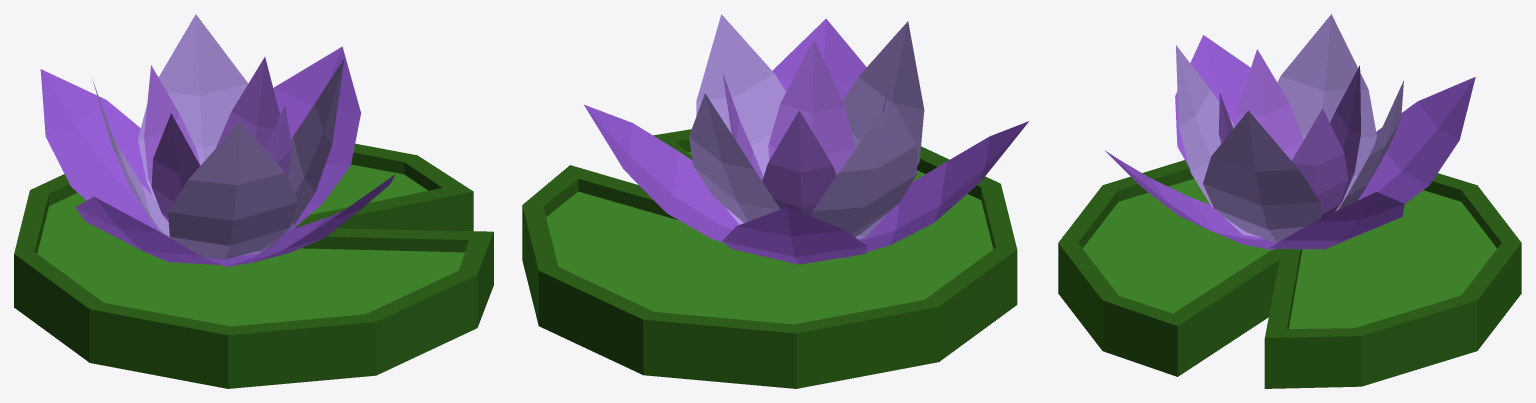
The model's file is WaterLily_DarkGreen_Flower_2.fbx.
3 views of the same model, side by side, from view 1: azimuth 30°, elevation 25°; view 2: azimuth 150°, elevation 25°; view 3: azimuth 270°, elevation 25° (orthographic). The views are drawn at different scales.
Parts seen in each view (by area): view 1: Cylinder.586, Cylinder.583, Plane.114, Plane.109, Plane.119; view 2: Cylinder.586, Cylinder.583, Plane.114, Plane.109, Plane.119; view 3: Cylinder.586, Cylinder.583, Plane.114, Plane.109, Plane.119.
Part boxes in pixels (x1,y1,x2,y2): Cylinder.586: [14, 143, 493, 388]; Cylinder.583: [37, 164, 464, 326]; Plane.114: [92, 14, 344, 259]; Plane.109: [40, 46, 395, 266]; Plane.119: [144, 57, 292, 222]; Cylinder.586: [522, 129, 1017, 388]; Cylinder.583: [546, 152, 993, 324]; Plane.114: [689, 14, 924, 239]; Plane.109: [584, 19, 1028, 264]; Plane.119: [722, 39, 890, 215]; Cylinder.586: [1058, 160, 1521, 388]; Cylinder.583: [1082, 179, 1497, 328]; Plane.114: [1176, 14, 1403, 242]; Plane.109: [1104, 35, 1475, 250]; Plane.119: [1218, 49, 1360, 217].
Size of the model in its own units: 116 by 60.98 by 119.
